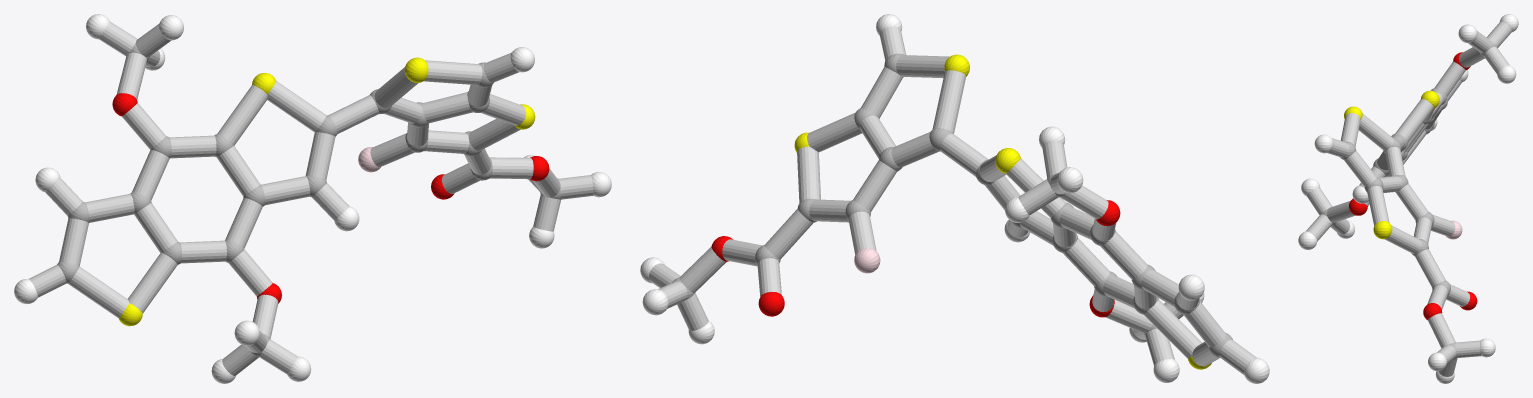
The model's file is color.glb.
3 renders of one model, left to right at view 1: azimuth 30°, elevation 25°; view 2: azimuth 150°, elevation 25°; view 3: azimuth 270°, elevation 25°, orthographic. The views are drawn at different scales.
Visible parts, largest first — view 1: grp15205, grp8689, grp1, grp7241, grp13395; view 2: grp15205, grp8689, grp1, grp13395, grp7241, grp14843; view 3: grp15205, grp8689, grp1, grp13395, grp7241.
Boxes of the visible parts, x1=… form: grp15205: x1=29, y1=21, x2=593, y2=375; grp8689: x1=14, y1=14, x2=611, y2=383; grp1: x1=57, y1=43, x2=561, y2=356; grp7241: x1=118, y1=57, x2=535, y2=326; grp13395: x1=112, y1=93, x2=549, y2=303; grp15205: x1=649, y1=26, x2=1256, y2=374; grp8689: x1=640, y1=14, x2=1269, y2=383; grp1: x1=672, y1=53, x2=1232, y2=357; grp13395: x1=711, y1=200, x2=1120, y2=317; grp7241: x1=794, y1=54, x2=1211, y2=369; grp14843: x1=854, y1=248, x2=880, y2=273; grp15205: x1=1306, y1=21, x2=1511, y2=376; grp8689: x1=1298, y1=14, x2=1518, y2=383; grp1: x1=1321, y1=41, x2=1496, y2=359; grp13395: x1=1349, y1=52, x2=1477, y2=320; grp7241: x1=1344, y1=90, x2=1439, y2=239.
Bounding box in the file's own units: 16.34 × 7.97 × 6.96.
